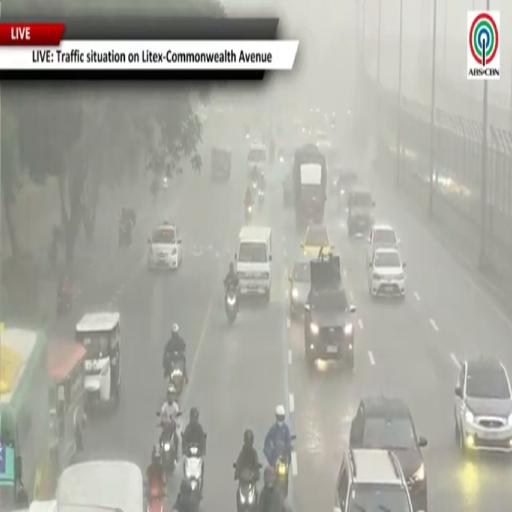car: (350, 396, 427, 510), (304, 255, 355, 370), (455, 357, 511, 453), (334, 448, 413, 511), (367, 248, 405, 297), (148, 222, 182, 269), (367, 223, 399, 265), (347, 189, 375, 236), (330, 165, 359, 206), (289, 262, 310, 317), (301, 224, 332, 259), (212, 148, 231, 181), (248, 142, 267, 172), (283, 170, 294, 207), (278, 148, 293, 168), (316, 131, 330, 152)
jeepney: (0, 328, 49, 508), (48, 340, 86, 488), (76, 312, 121, 411), (56, 461, 145, 511)
motorcycle: (184, 444, 203, 508), (160, 424, 178, 475), (237, 469, 257, 511), (275, 446, 291, 497), (170, 352, 184, 395), (225, 286, 238, 325), (147, 484, 164, 511), (57, 288, 73, 315), (119, 220, 132, 247), (245, 205, 253, 223), (258, 188, 264, 204), (252, 180, 257, 196)
truck: (293, 144, 327, 226)
